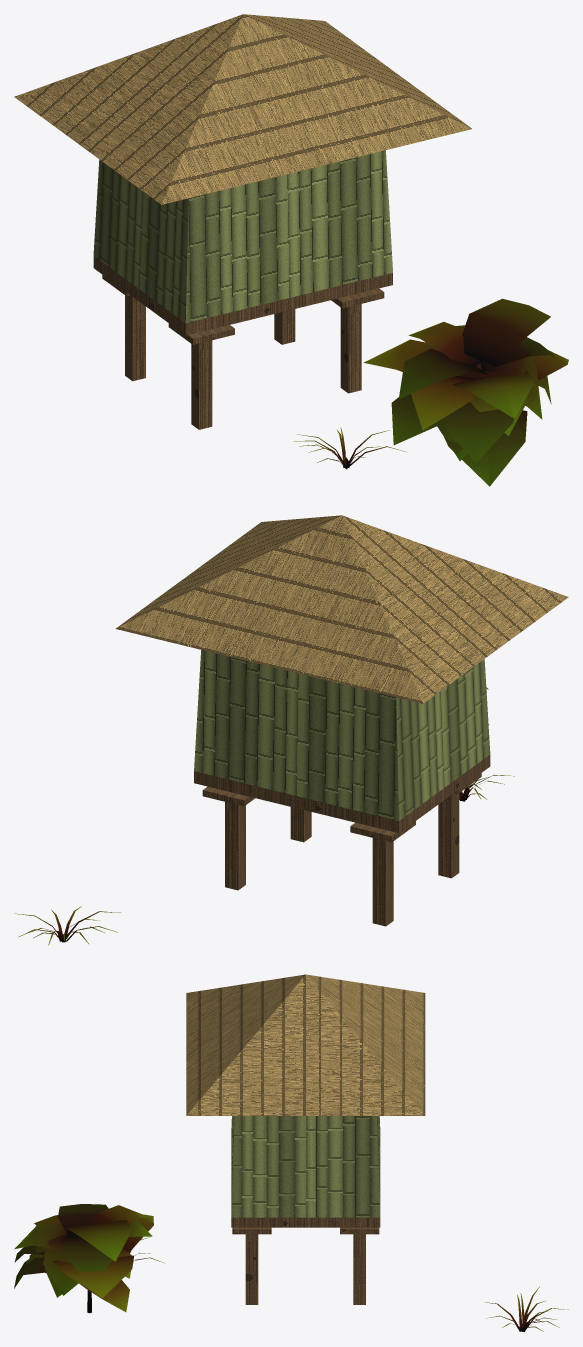
The model's file is bo_lua_01.glb.
3 views of the same model, one above another, from view 1: azimuth 30°, elevation 25°; view 2: azimuth 150°, elevation 25°; view 3: azimuth 270°, elevation 25° (orthographic). The views are drawn at different scales.
Parts seen in each view (by area): view 1: bo_lua_01, bo_lua_01_veg_00_bush_c, bo_lua_01_veg_02_grass_tuft_c; view 2: bo_lua_01, bo_lua_01_veg_01_grass_tuft_b; view 3: bo_lua_01, bo_lua_01_veg_00_bush_c, bo_lua_01_veg_01_grass_tuft_b.
Part boxes in pixels (box(x1,y1,x2,y2)): bo_lua_01: box(14, 14, 471, 429); bo_lua_01_veg_00_bush_c: box(363, 298, 568, 486); bo_lua_01_veg_02_grass_tuft_c: box(294, 428, 405, 469); bo_lua_01: box(115, 515, 568, 926); bo_lua_01_veg_01_grass_tuft_b: box(14, 906, 120, 945); bo_lua_01: box(186, 974, 425, 1304); bo_lua_01_veg_00_bush_c: box(14, 1204, 153, 1313); bo_lua_01_veg_01_grass_tuft_b: box(485, 1286, 568, 1331).
Bounding box in the file's own units: 4.23 × 4.2 × 7.07.
Materials: 6 (6 with a texture image).
